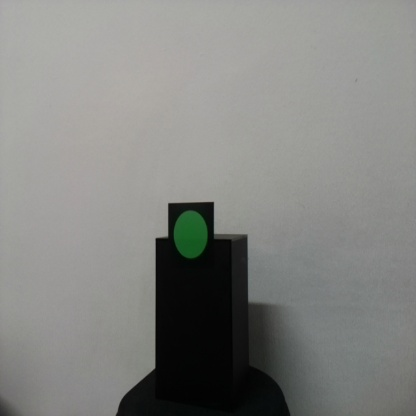id_5: (169, 203, 214, 271)
